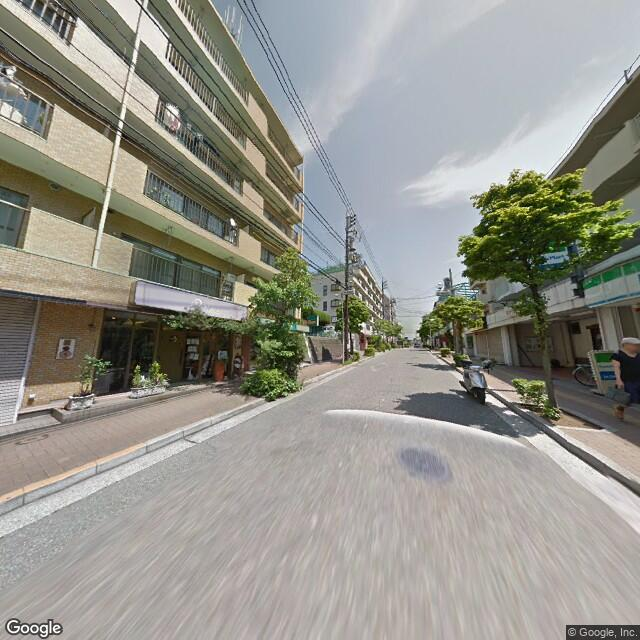family_mart: (585, 254, 639, 310), (534, 240, 573, 272), (589, 350, 620, 382)
